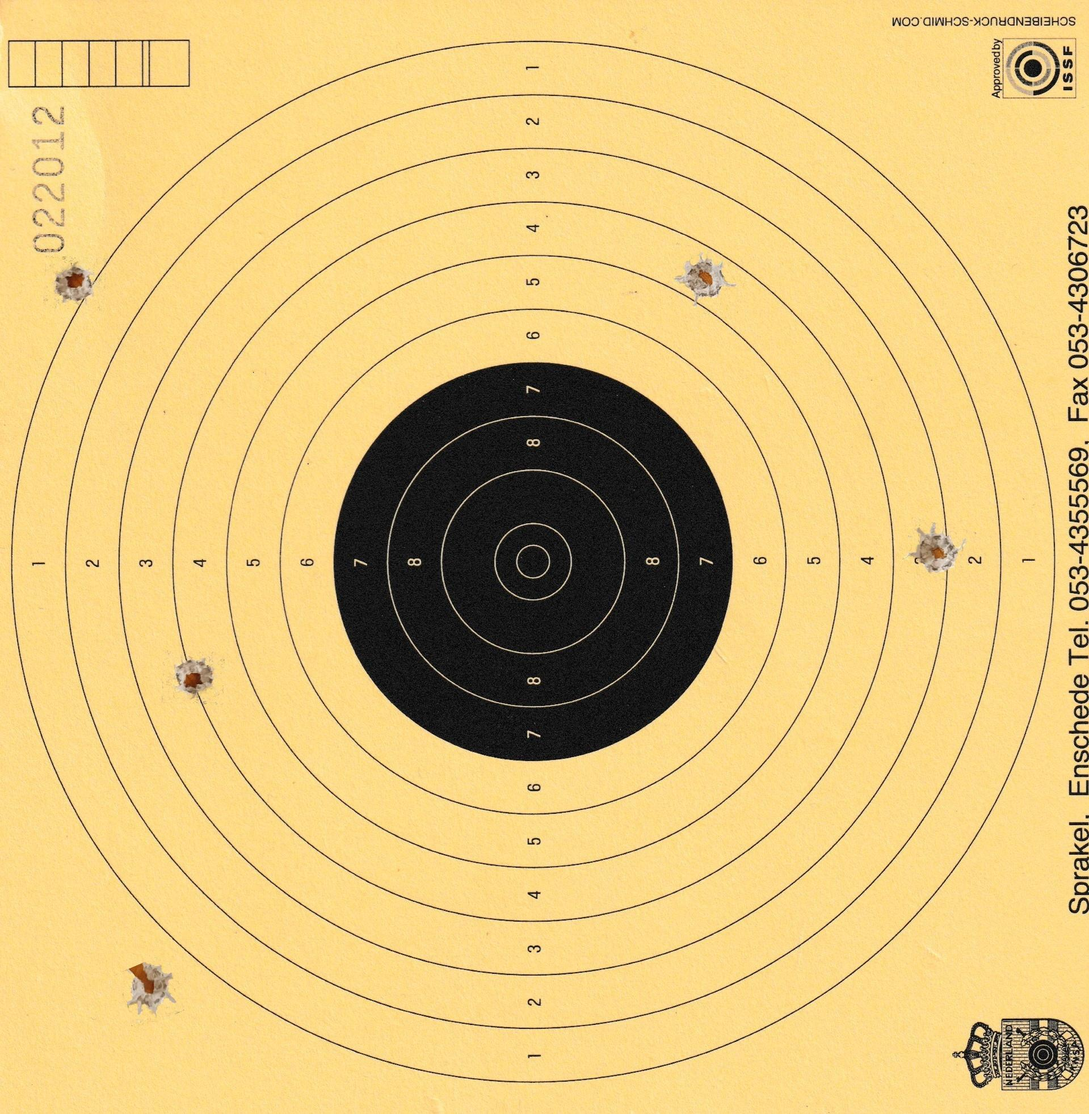hole: (118, 958, 182, 1018), (672, 253, 738, 307), (908, 522, 966, 576), (53, 259, 99, 308), (169, 657, 218, 703)
